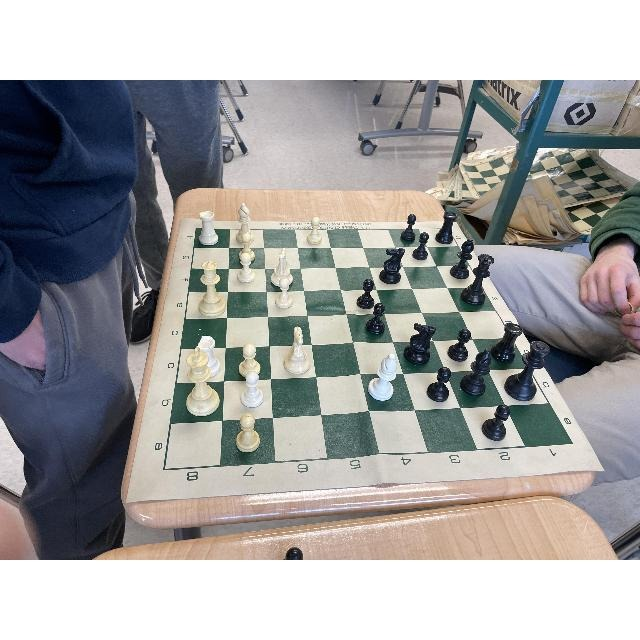black-bishop: (546, 192, 628, 219)
black-pawn: (507, 349, 545, 399), (462, 256, 495, 307), (478, 404, 518, 443), (379, 248, 409, 284), (424, 365, 454, 401), (466, 212, 491, 250), (448, 327, 474, 359), (365, 300, 389, 334), (355, 276, 379, 307), (413, 231, 433, 261)
black-rook: (458, 340, 494, 392), (406, 321, 440, 366), (492, 323, 520, 362), (451, 238, 477, 278), (437, 211, 459, 246), (398, 213, 421, 241), (281, 546, 317, 560)
white-bishop: (568, 97, 624, 132), (235, 365, 267, 415), (182, 338, 219, 374), (299, 216, 328, 246), (199, 223, 225, 250)
white-pawn: (365, 354, 400, 402), (278, 326, 310, 376), (234, 411, 267, 455), (271, 266, 296, 314), (238, 233, 260, 279), (235, 343, 267, 373), (188, 288, 216, 318), (198, 260, 224, 289), (272, 261, 293, 292), (237, 258, 258, 289)
white-queen: (178, 373, 219, 418)
white-rook: (472, 141, 524, 172)
